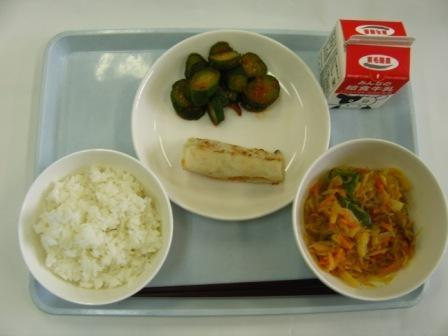Milk: (318, 6, 423, 113)
Rice: (10, 153, 178, 295)
Salad: (165, 35, 291, 125)
crepe: (164, 128, 297, 188)
vegetable based cooked food: (297, 147, 445, 287)
